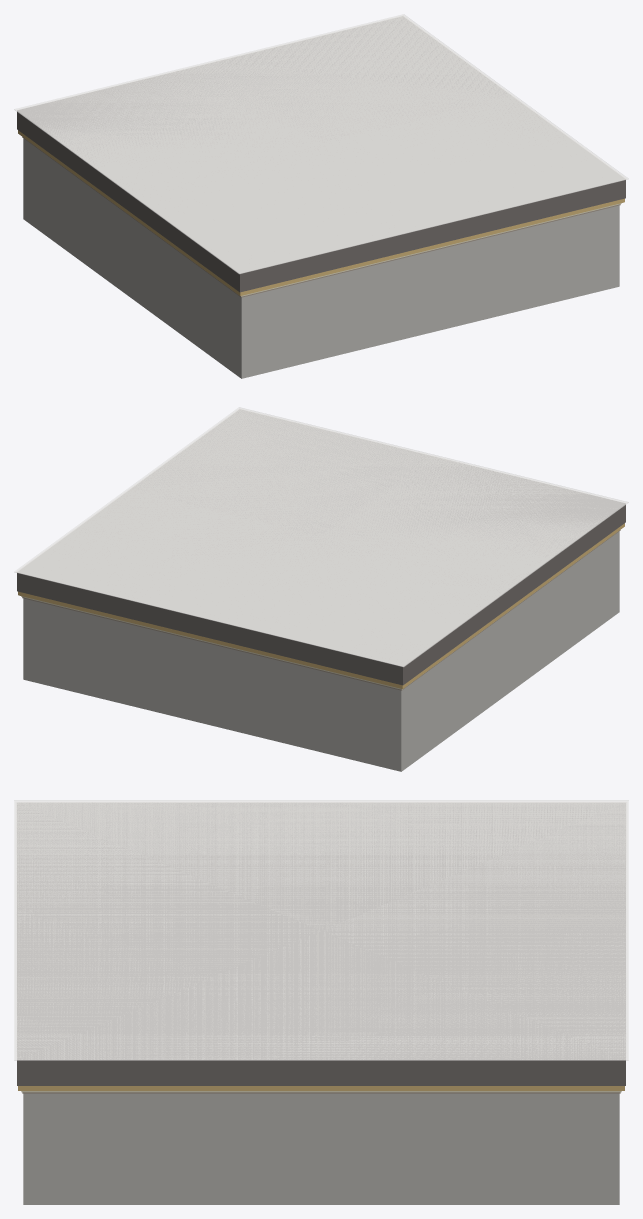
Rendered from terrazzo-epoxy.glb.
3 views of the same model, one above another, from view 1: azimuth 30°, elevation 25°; view 2: azimuth 150°, elevation 25°; view 3: azimuth 270°, elevation 25° (orthographic). The views are drawn at different scales.
Parts seen in each view (by area): view 1: topcoat-2, topcoat-1, gel-fill, substrate, body, decorative-strips, substrate-prep, mesh-layer; view 2: topcoat-2, topcoat-1, gel-fill, substrate, body, decorative-strips, substrate-prep, mesh-layer; view 3: topcoat-2, topcoat-1, body, substrate, gel-fill, decorative-strips, mesh-layer, substrate-prep.
Part boxes in pixels (left/top/right/bottom): topcoat-2: left=14, top=14, right=628, bottom=274; topcoat-1: left=16, top=15, right=627, bottom=273; gel-fill: left=44, top=16, right=625, bottom=272; substrate: left=23, top=138, right=619, bottom=378; body: left=17, top=17, right=625, bottom=292; decorative-strips: left=18, top=130, right=624, bottom=295; substrate-prep: left=22, top=137, right=620, bottom=297; mesh-layer: left=240, top=203, right=621, bottom=296; topcoat-2: left=14, top=407, right=628, bottom=667; topcoat-1: left=15, top=408, right=626, bottom=666; gel-fill: left=17, top=409, right=598, bottom=665; substrate: left=23, top=531, right=619, bottom=771; body: left=17, top=410, right=625, bottom=685; decorative-strips: left=18, top=523, right=624, bottom=688; substrate-prep: left=22, top=530, right=620, bottom=690; mesh-layer: left=21, top=596, right=402, bottom=689; topcoat-2: left=14, top=800, right=628, bottom=1060; topcoat-1: left=15, top=801, right=627, bottom=1060; body: left=17, top=803, right=625, bottom=1085; substrate: left=23, top=1093, right=619, bottom=1204; gel-fill: left=16, top=802, right=626, bottom=1059; decorative-strips: left=18, top=1086, right=624, bottom=1090; mesh-layer: left=21, top=1091, right=621, bottom=1092; substrate-prep: left=22, top=1092, right=620, bottom=1093.
Size of the model in its own units: 0.3 by 0.0801 by 0.3.
